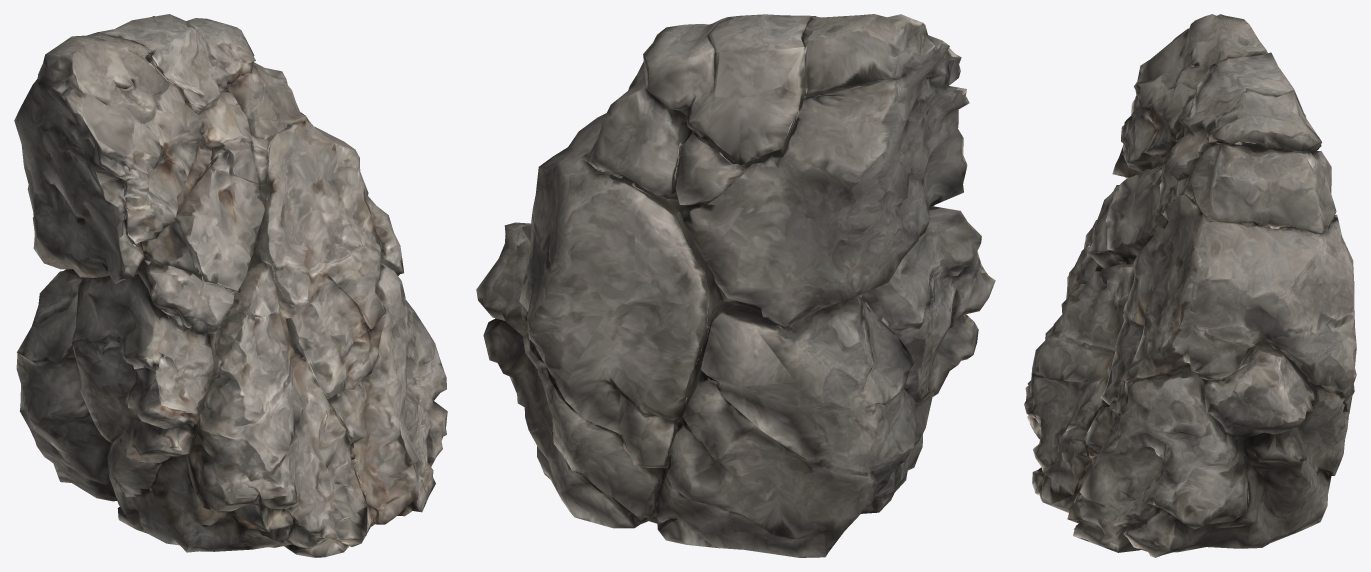
The model's file is crag_d_lod1.glb.
3 views of the same model, side by side, from view 1: azimuth 30°, elevation 25°; view 2: azimuth 150°, elevation 25°; view 3: azimuth 270°, elevation 25° (orthographic). The views are drawn at different scales.
Visible parts, largest first — view 1: crag_d_lod1; view 2: crag_d_lod1; view 3: crag_d_lod1.
Boxes of the visible parts, left/top/right/bottom form: crag_d_lod1: left=14, top=14, right=447, bottom=557; crag_d_lod1: left=476, top=14, right=995, bottom=557; crag_d_lod1: left=1024, top=14, right=1356, bottom=557.
Size of the model in its own units: 40.1 by 47.09 by 34.71.
Materials: 1 (1 with a texture image).
